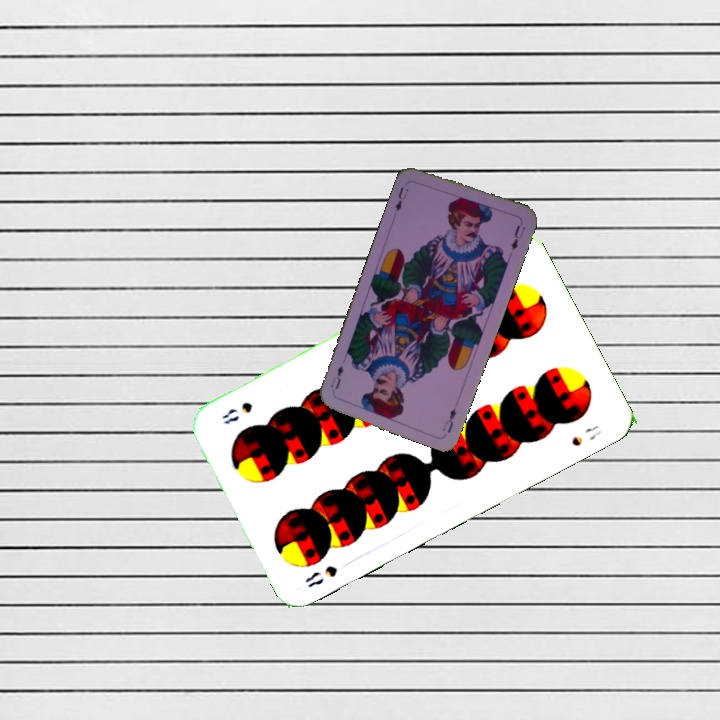EU: (391, 183, 411, 214), (439, 404, 459, 435)
S8: (300, 561, 340, 591)
